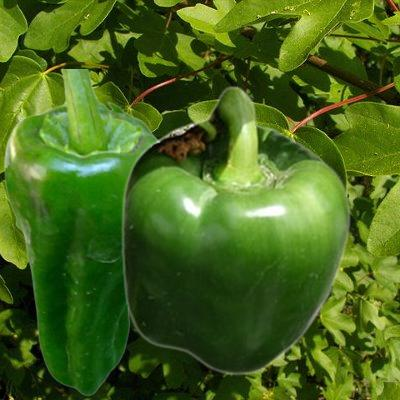bell_pepper: (120, 85, 350, 375), (3, 69, 157, 395)
